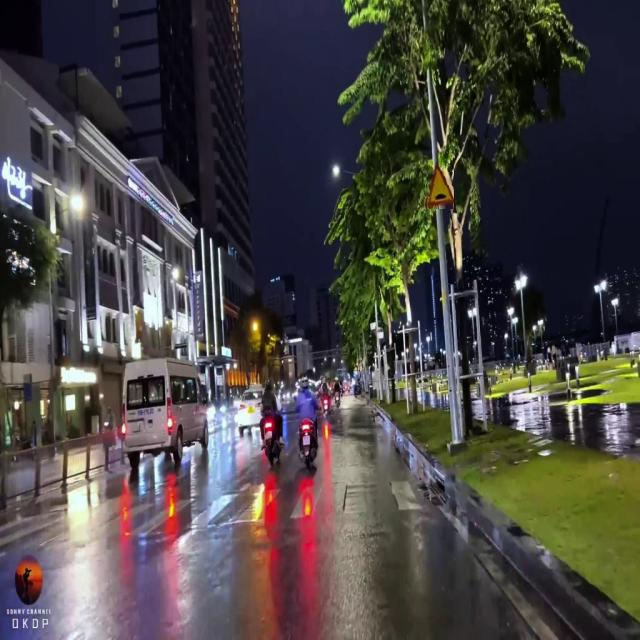duong_co_song_map_mo_nhan_tao: (424, 163, 454, 209)
